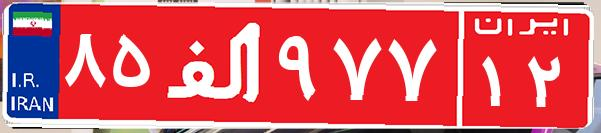1: (475, 38, 525, 113)
2: (525, 38, 570, 115)
5: (110, 28, 158, 105)
7: (385, 28, 445, 110), (330, 28, 385, 110)
8: (57, 26, 110, 107)
9: (273, 28, 330, 110)
الف: (158, 15, 273, 115)
